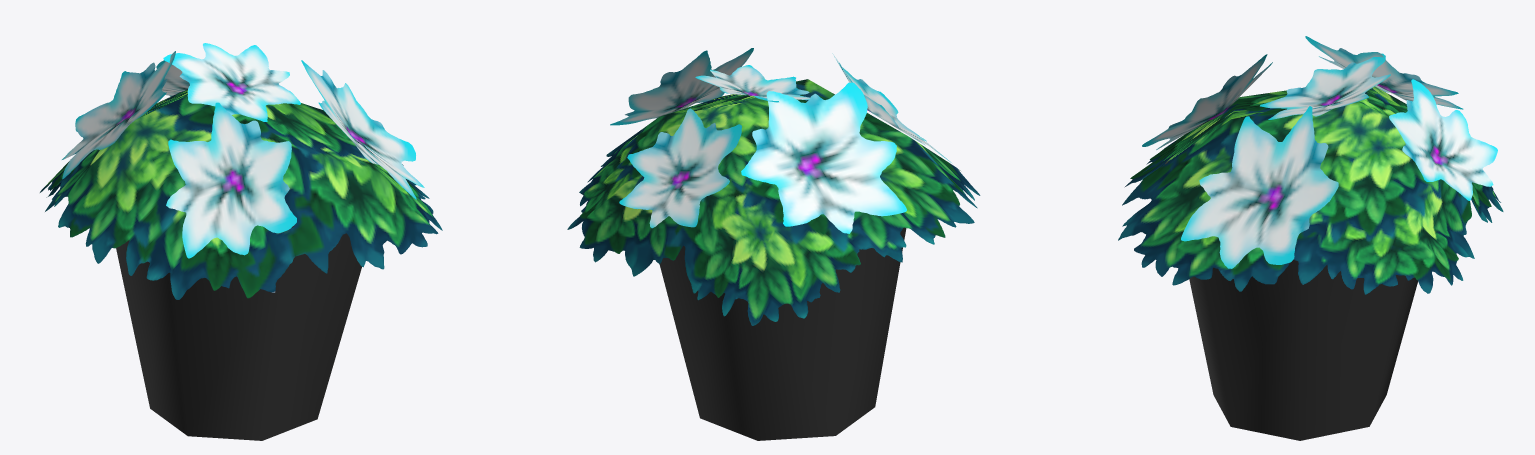
The model's file is SM_PROP_PLANT_pot_v2_04.FBX.
3 views of the same model, side by side, from view 1: azimuth 30°, elevation 25°; view 2: azimuth 150°, elevation 25°; view 3: azimuth 270°, elevation 25° (orthographic). The views are drawn at different scales.
Parts seen in each view (by area): view 1: SM_PROP_PLANT_pot_v2_04; view 2: SM_PROP_PLANT_pot_v2_04; view 3: SM_PROP_PLANT_pot_v2_04.
Boxes of the visible parts, x1,y1,x2,y2 form: SM_PROP_PLANT_pot_v2_04: (40, 43, 442, 440); SM_PROP_PLANT_pot_v2_04: (567, 48, 980, 440); SM_PROP_PLANT_pot_v2_04: (1118, 36, 1503, 440).
Bounding box in the file's own units: 77.24 × 73.68 × 67.58.
